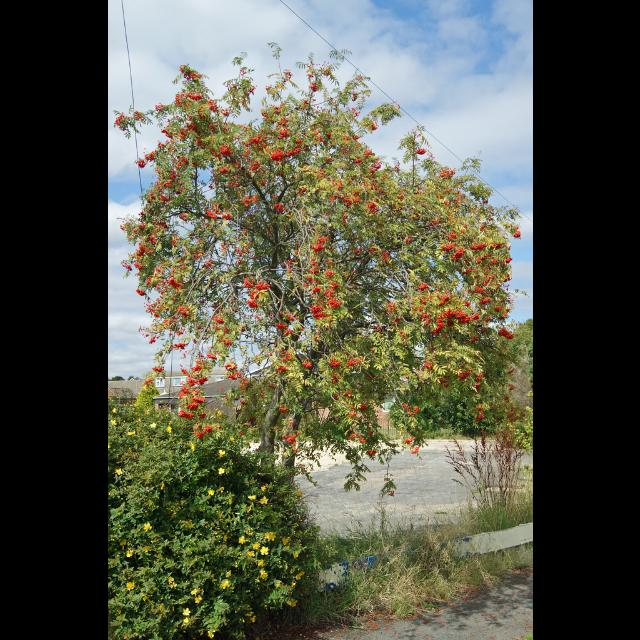Flower: (112, 62, 532, 498), (164, 369, 206, 413), (197, 420, 213, 438), (285, 598, 297, 610), (140, 521, 152, 531), (294, 570, 306, 580), (259, 568, 267, 582), (218, 582, 228, 590), (283, 534, 291, 544), (150, 417, 156, 429), (258, 496, 266, 504), (126, 549, 132, 557), (165, 426, 173, 432), (171, 581, 177, 589), (181, 618, 189, 624), (183, 609, 191, 615), (192, 588, 198, 596), (194, 596, 202, 602), (207, 488, 215, 494), (218, 467, 226, 473), (220, 448, 226, 456), (238, 538, 246, 544), (256, 558, 262, 566), (259, 548, 267, 554), (264, 532, 272, 538), (293, 552, 299, 560), (116, 468, 122, 474), (128, 582, 134, 588), (144, 544, 150, 550), (246, 505, 252, 511), (270, 534, 276, 540), (167, 576, 171, 584), (247, 496, 255, 500), (112, 405, 116, 411), (113, 420, 117, 426), (129, 432, 135, 436), (192, 443, 195, 451), (226, 569, 230, 575), (228, 437, 234, 441), (254, 542, 258, 548), (261, 485, 265, 491), (218, 487, 222, 491)
